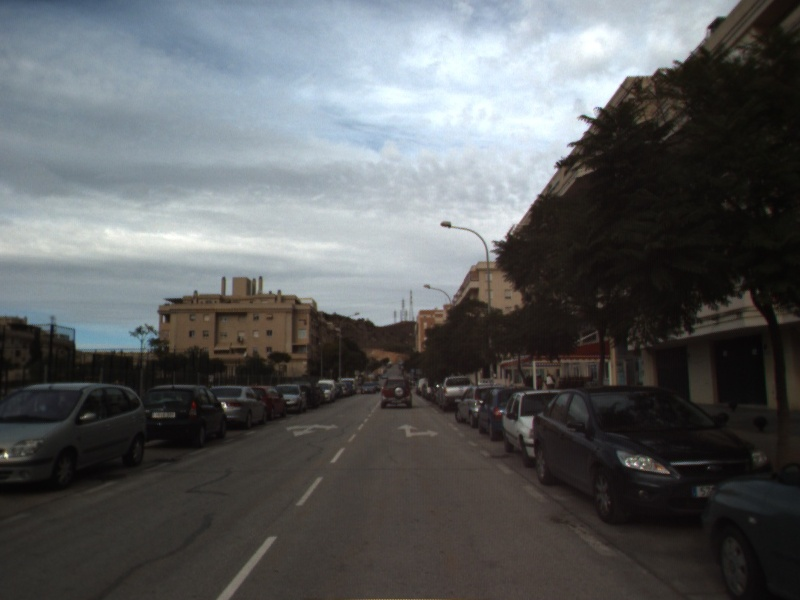STRAIGHT_RIGHT: (395, 422, 441, 439)
